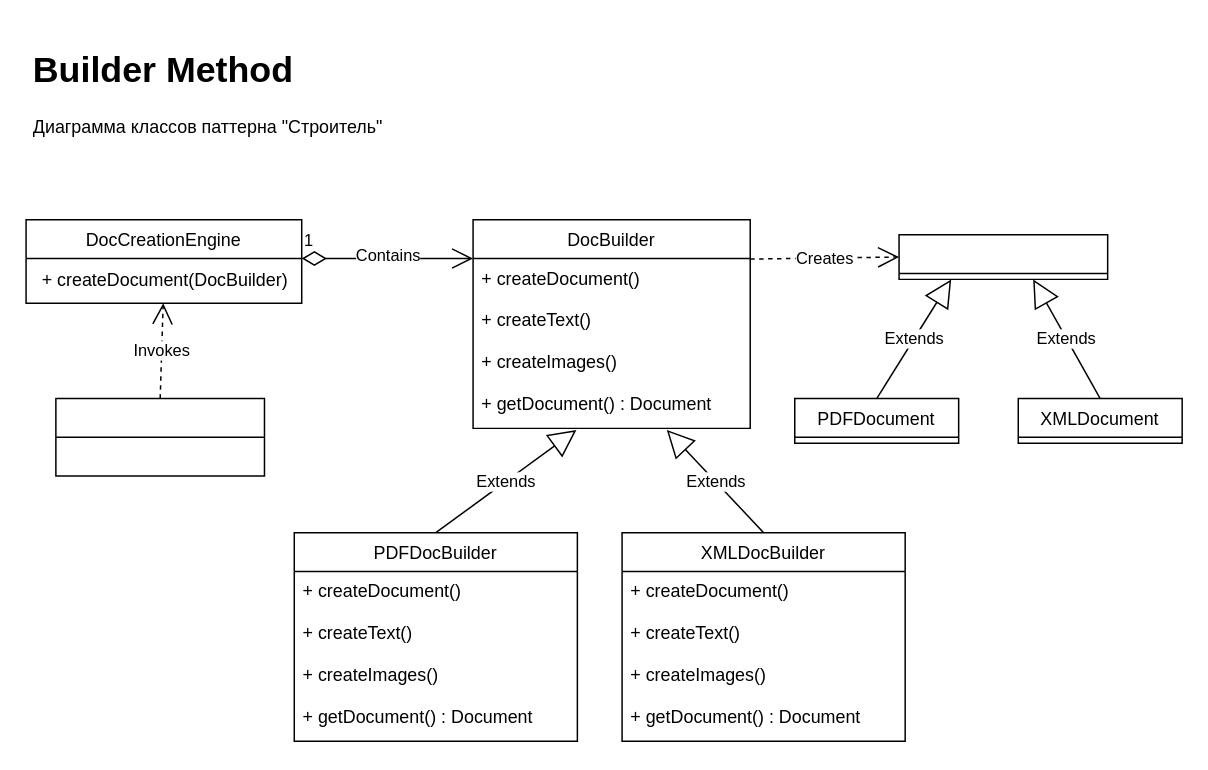
Image size: 1208x770. Some labels were removed from this diagram. The centre of each missing label's shape, as x and y in pixels:
"Client" goes at point (159, 436).
"Document" goes at point (1003, 256).
